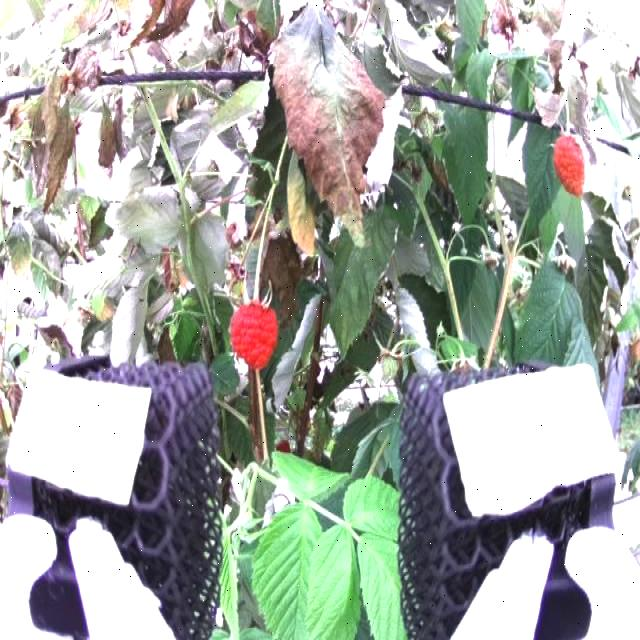Riped berries: (228, 284, 282, 368), (551, 129, 596, 202)
